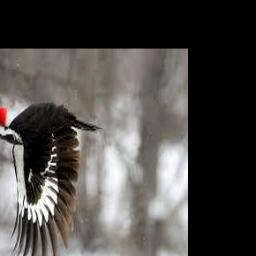Woodpecker: (0, 104, 101, 256)
